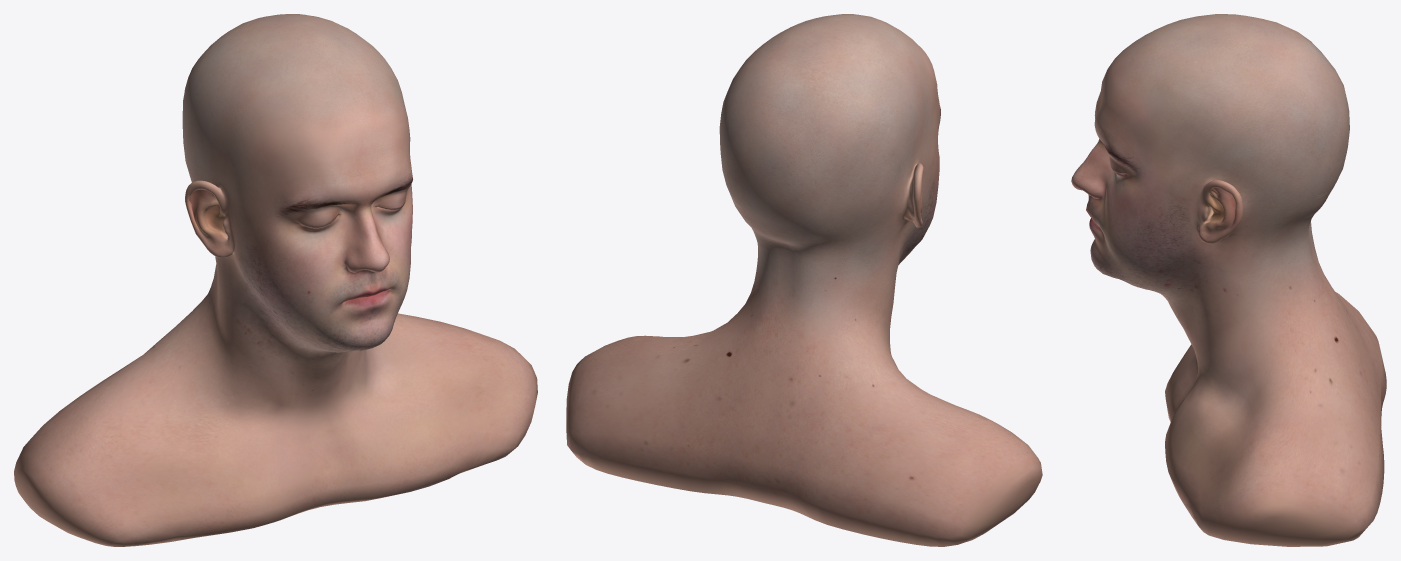
The model's file is lee_perry_smith_hi.glb.
3 renders of one model, left to right at view 1: azimuth 30°, elevation 25°; view 2: azimuth 150°, elevation 25°; view 3: azimuth 270°, elevation 25°, orthographic. The views are drawn at different scales.
Parts seen in each view (by area): view 1: head; view 2: head; view 3: head.
Boxes of the visible parts, bbox=[...] form: head: bbox=[14, 14, 537, 546]; head: bbox=[566, 14, 1042, 546]; head: bbox=[1071, 14, 1386, 546].
Size of the model in its own units: 0.4533 by 0.4211 by 0.2746.
Materials: 1 (1 with a texture image).
